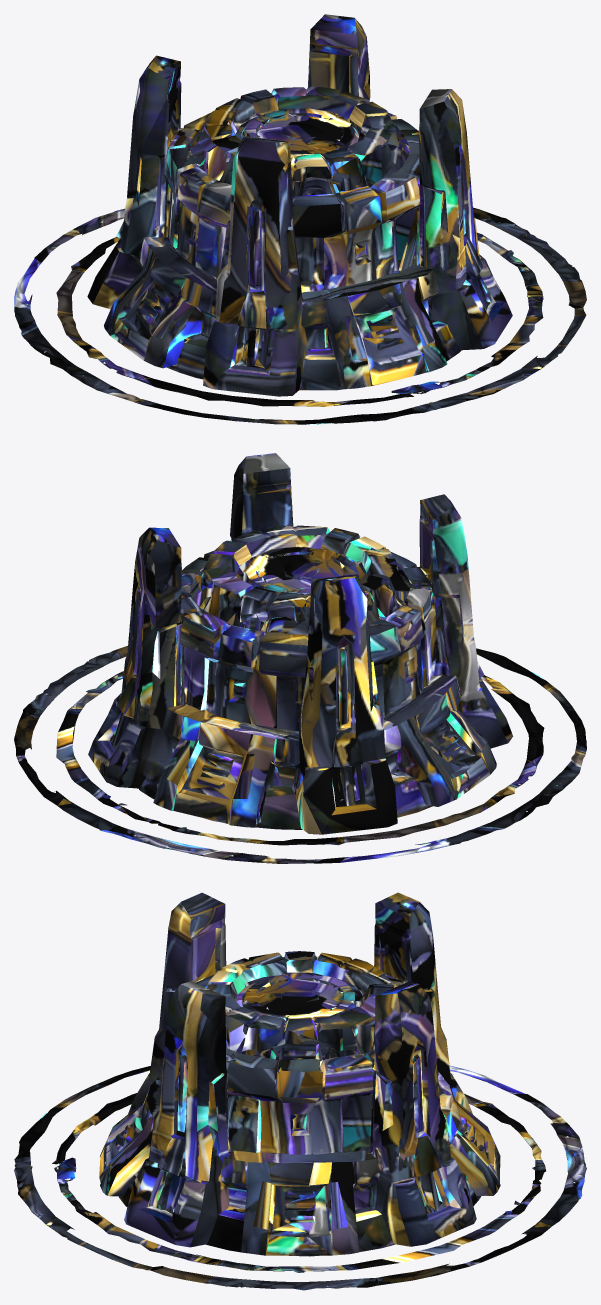
File: tower_pulse_3d_LOD1.fbx
The picture shows the model from 3 angles, top to bottom: view 1: azimuth 30°, elevation 25°; view 2: azimuth 150°, elevation 25°; view 3: azimuth 270°, elevation 25°; orthographic projection.
Parts seen in each view (by area): view 1: Base, Ring; view 2: Base, Ring; view 3: Base, Ring.
Boxes of the visible parts, x1,y1,x2,y2 form: Base: [14, 14, 586, 424]; Ring: [199, 86, 399, 179]; Base: [14, 453, 586, 863]; Ring: [201, 525, 398, 615]; Base: [14, 892, 586, 1290]; Ring: [206, 951, 393, 1039].
Size of the model in its own units: 145 by 65.57 by 144.
